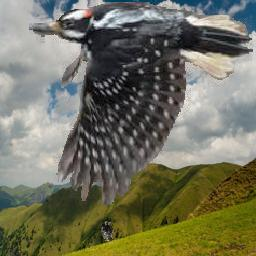Crow: (102, 221, 115, 241)
Woodpecker: (29, 1, 253, 206)
